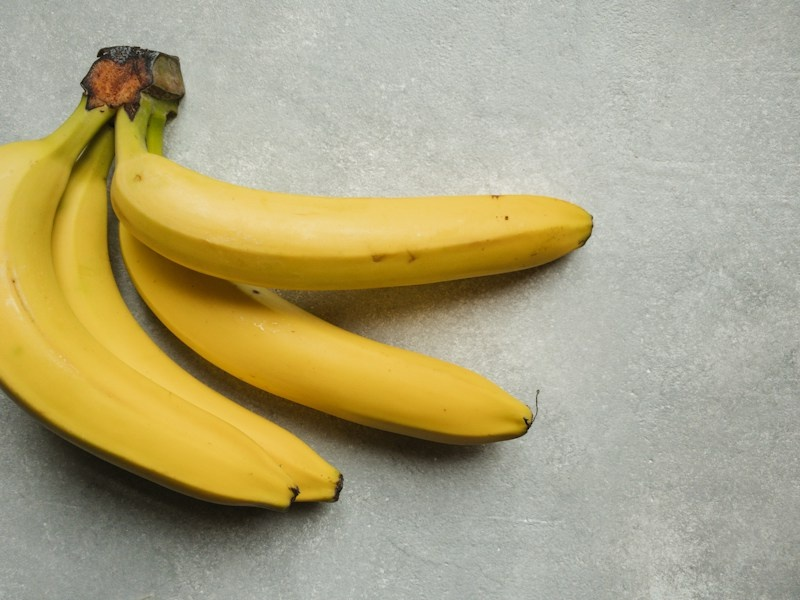banana peel: (0, 44, 546, 511), (108, 64, 599, 449), (0, 43, 357, 510), (108, 53, 594, 292), (105, 198, 536, 446)
